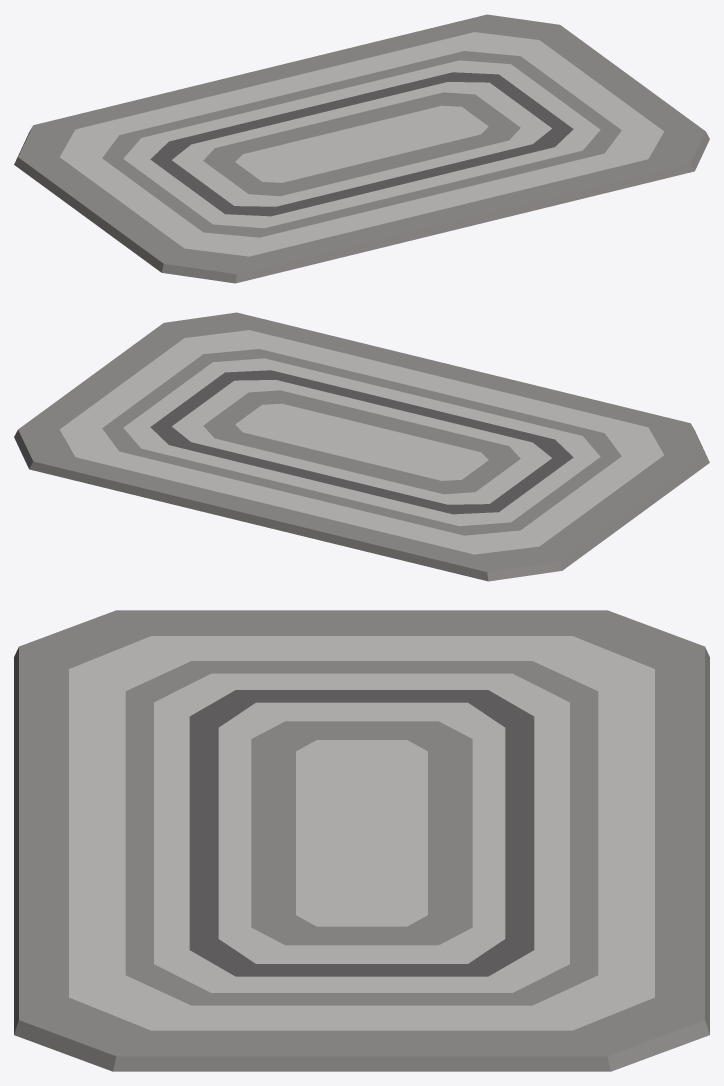
Rendered from Rug1.fbx.
The picture shows the model from 3 angles, top to bottom: view 1: azimuth 30°, elevation 25°; view 2: azimuth 150°, elevation 25°; view 3: azimuth 270°, elevation 25°; orthographic projection. The views are drawn at different scales.
Parts seen in each view (by area): view 1: Rug; view 2: Rug; view 3: Rug.
Boxes of the visible parts, left/top/right/bottom form: Rug: left=14, top=14, right=709, bottom=283; Rug: left=14, top=312, right=709, bottom=581; Rug: left=14, top=610, right=709, bottom=1071.
Bounding box in the file's own units: 236 × 3.14 × 154.
Materials: 1 (1 with a texture image).
